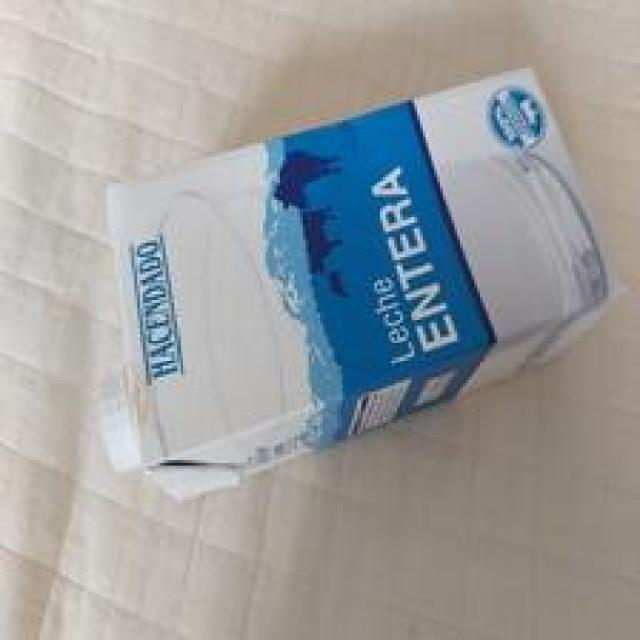Carton: (95, 68, 624, 494)
